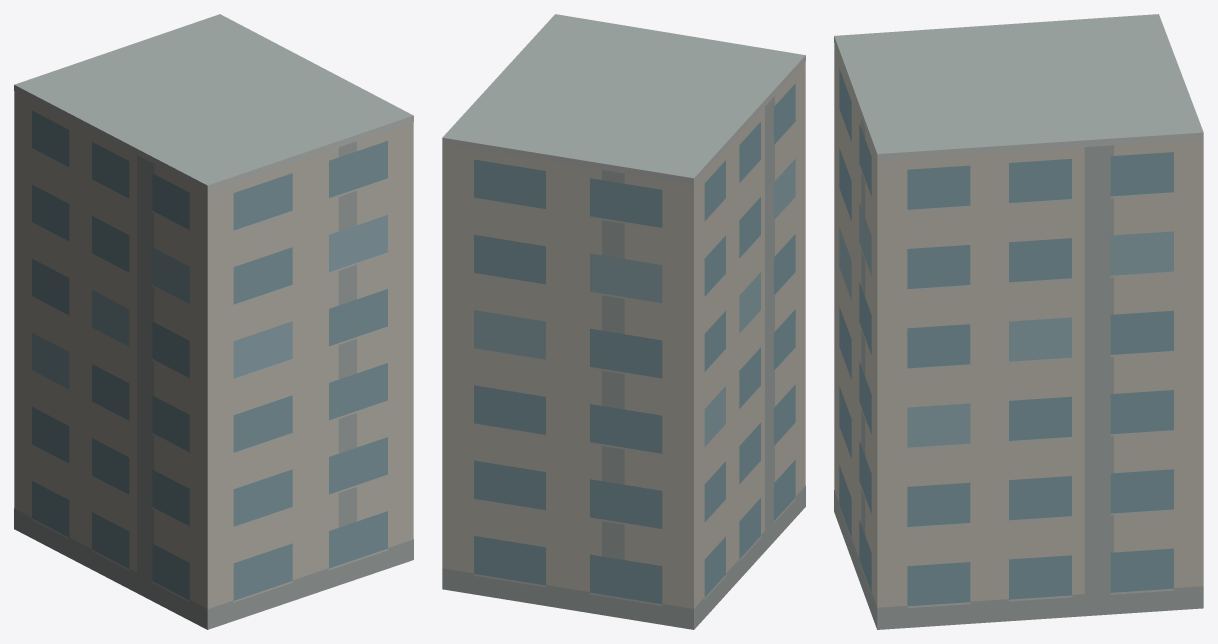
Rendered from survey-upis-32709186.glb.
3 renders of one model, left to right at view 1: azimuth 30°, elevation 25°; view 2: azimuth 150°, elevation 25°; view 3: azimuth 270°, elevation 25°, orthographic. The views are drawn at different scales.
Visible parts, largest first — view 1: survey-upis-32709186.tmp; view 2: survey-upis-32709186.tmp; view 3: survey-upis-32709186.tmp.
Boxes of the visible parts, box(x1,y1,x2,y2) form: survey-upis-32709186.tmp: box(14, 14, 413, 629); survey-upis-32709186.tmp: box(442, 14, 805, 629); survey-upis-32709186.tmp: box(834, 14, 1203, 629).
Bounding box in the file's own units: 10.74 × 17 × 11.98.
